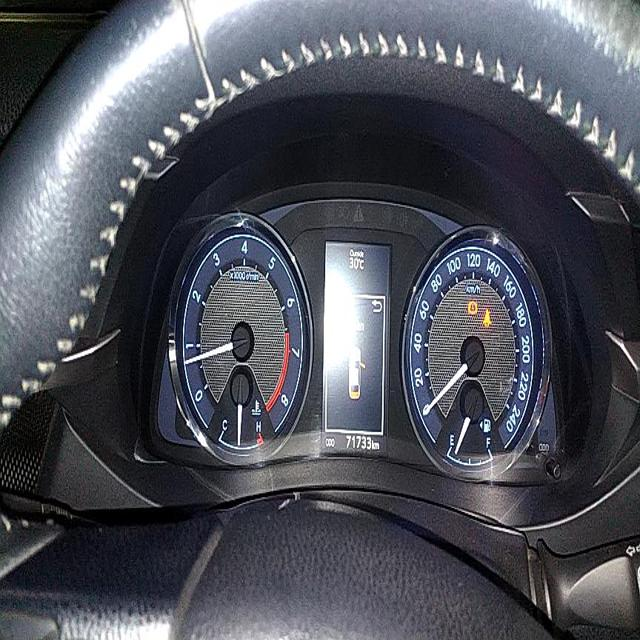odometer: (344, 432, 374, 453)
